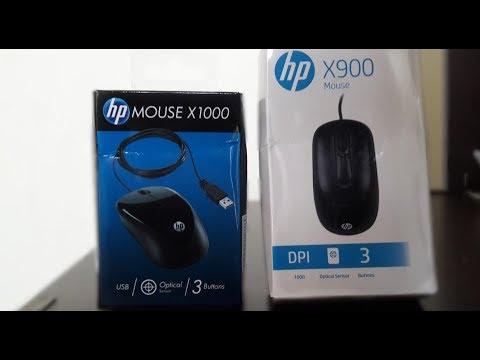hp-mouse-X1000: (111, 131, 235, 265)
